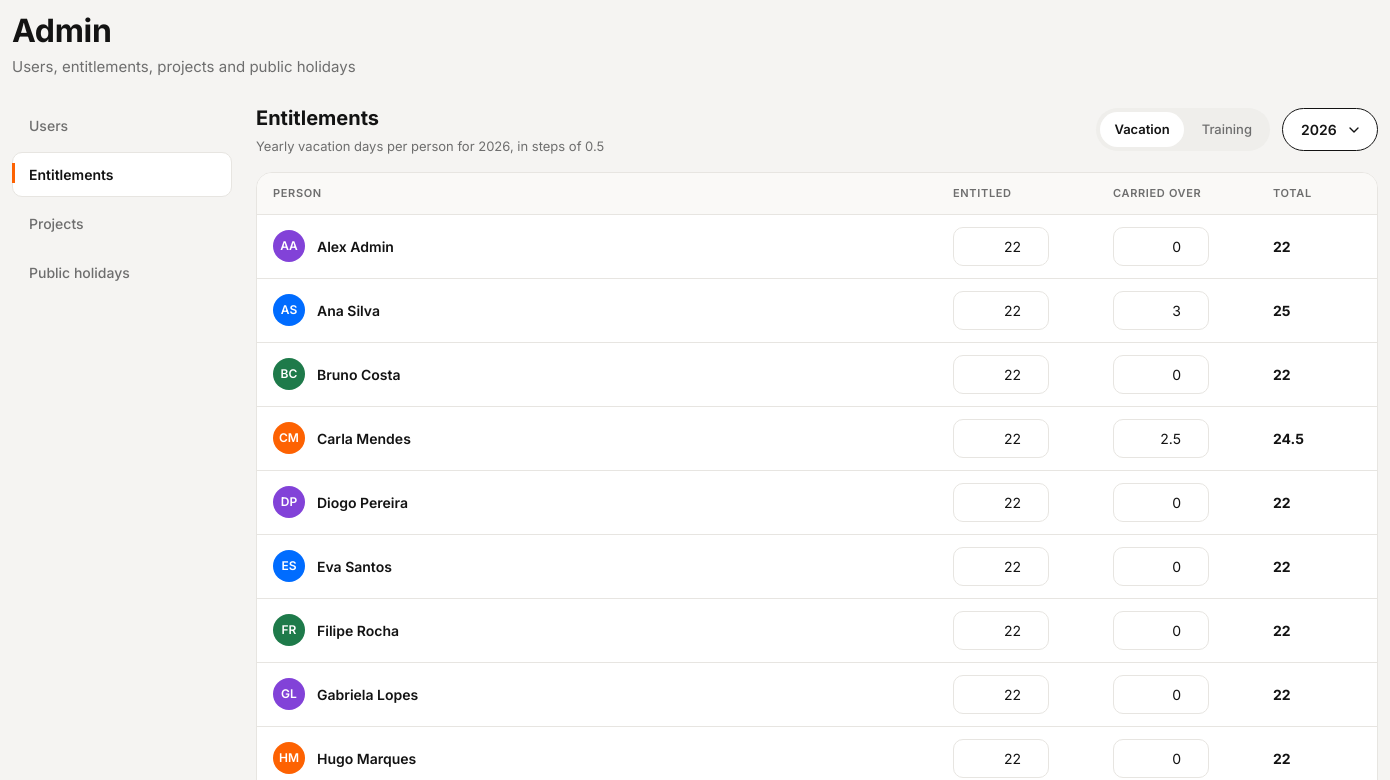
it: Admin – Entitlements › switches to training days and to another year
Check: the heading "Entitlements" is shown, box top-left (256, 106), bottom-right (379, 130)
Click the radio button labelled "Training": coordinates (1227, 129) top-left (1202, 121), bottom-right (1252, 137)
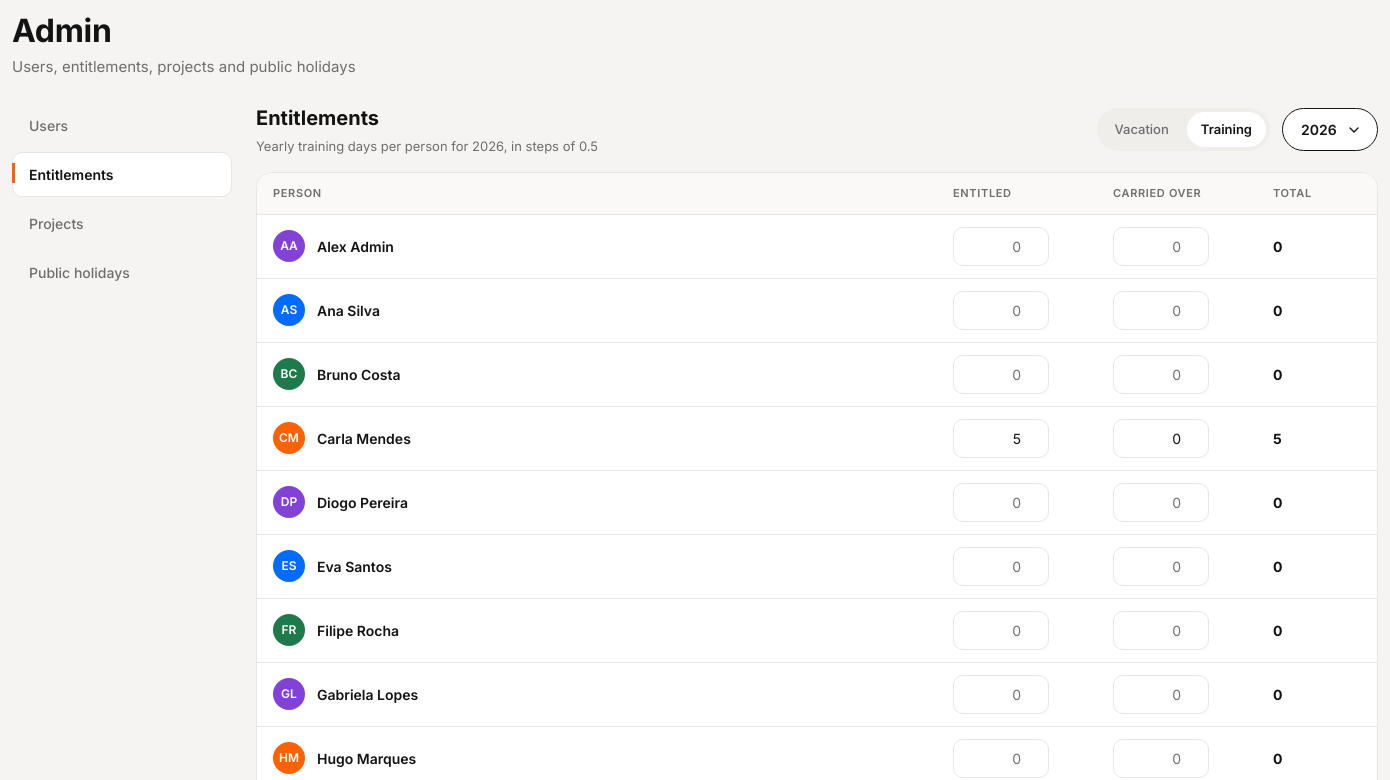
Select "2027" in the dropdown named "Year": coordinates (1330, 130) top-left (1282, 108), bottom-right (1378, 151)
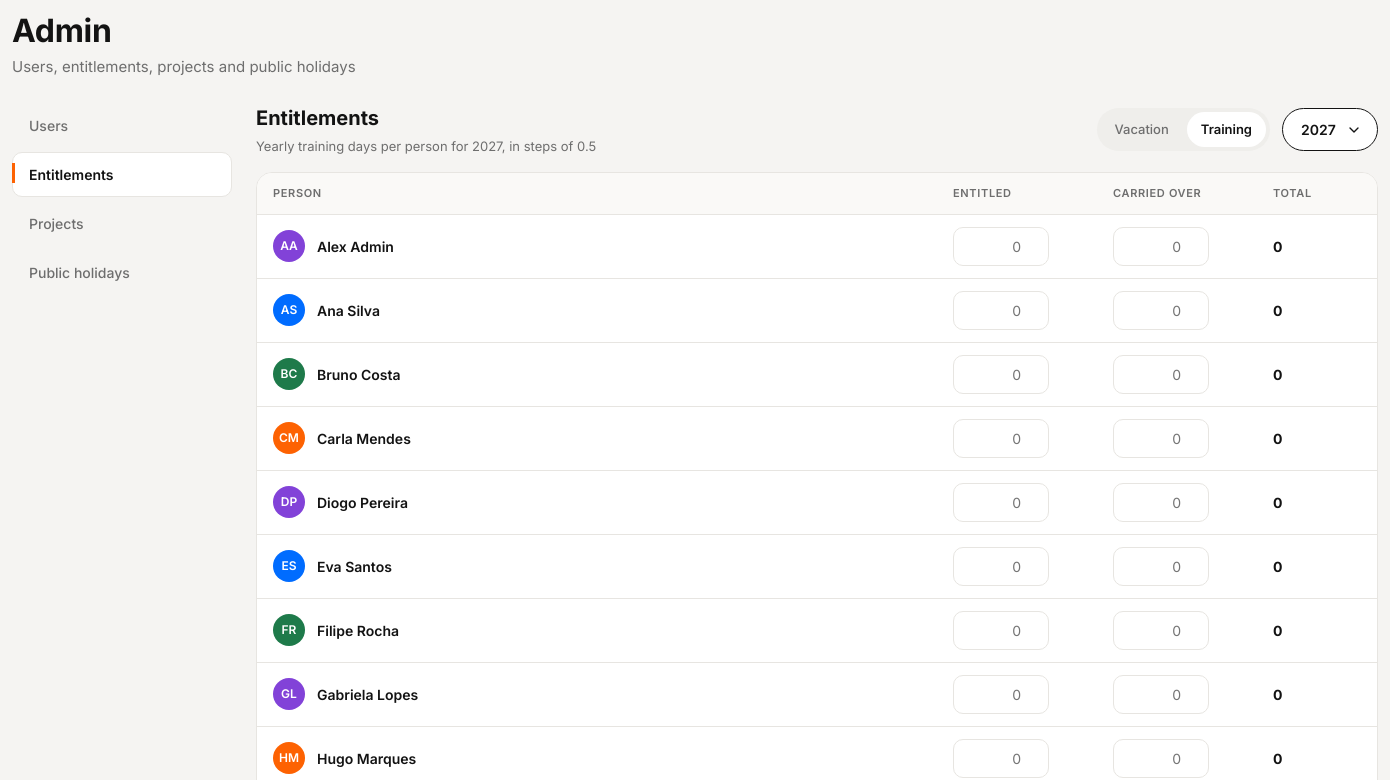
Check: the text "Yearly training days per person for 2027" is shown, box top-left (256, 138), bottom-right (596, 154)
